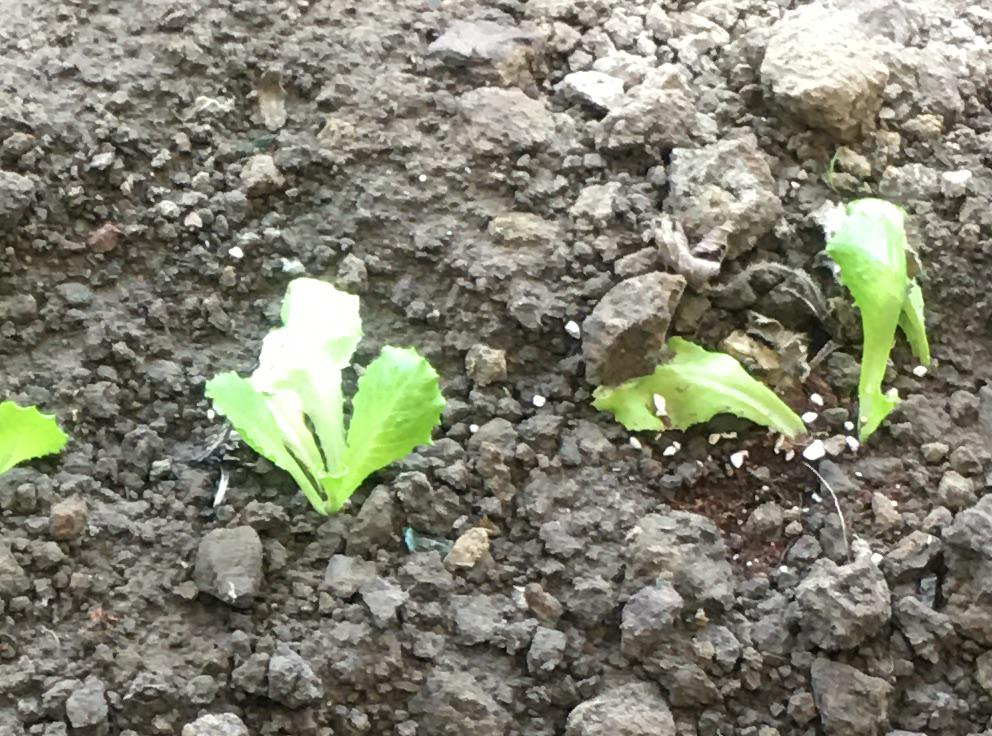block: (758, 6, 890, 138), (571, 264, 688, 387)
